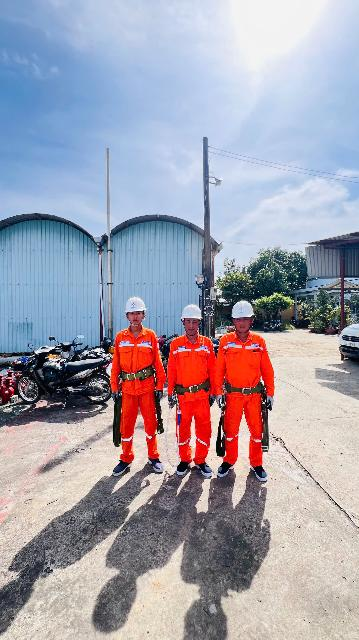gloves: (260, 390, 277, 415), (149, 388, 166, 403), (214, 389, 225, 411), (110, 388, 124, 405), (202, 393, 214, 408), (163, 394, 173, 403)
harness: (219, 371, 273, 398), (165, 373, 212, 402), (113, 363, 163, 389)
helmet: (227, 297, 256, 323), (180, 298, 203, 328), (125, 295, 147, 317)
shoes: (111, 448, 141, 478), (248, 460, 276, 482), (143, 455, 171, 472), (173, 457, 192, 474), (194, 464, 219, 476), (221, 463, 241, 478)
